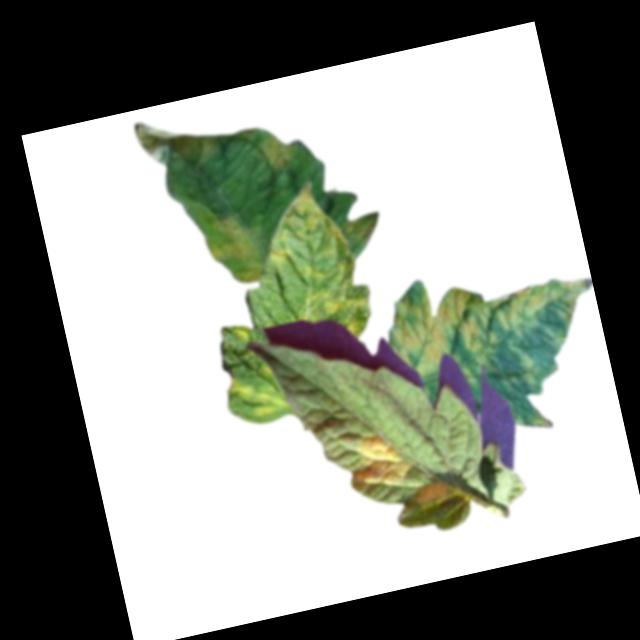Leaf_Mold: (381, 245, 604, 381), (255, 178, 360, 302), (131, 105, 219, 179), (294, 277, 380, 348), (199, 210, 271, 291), (344, 425, 415, 495), (224, 362, 291, 426), (256, 127, 303, 177), (340, 210, 384, 249), (408, 476, 451, 510), (228, 319, 253, 345)
